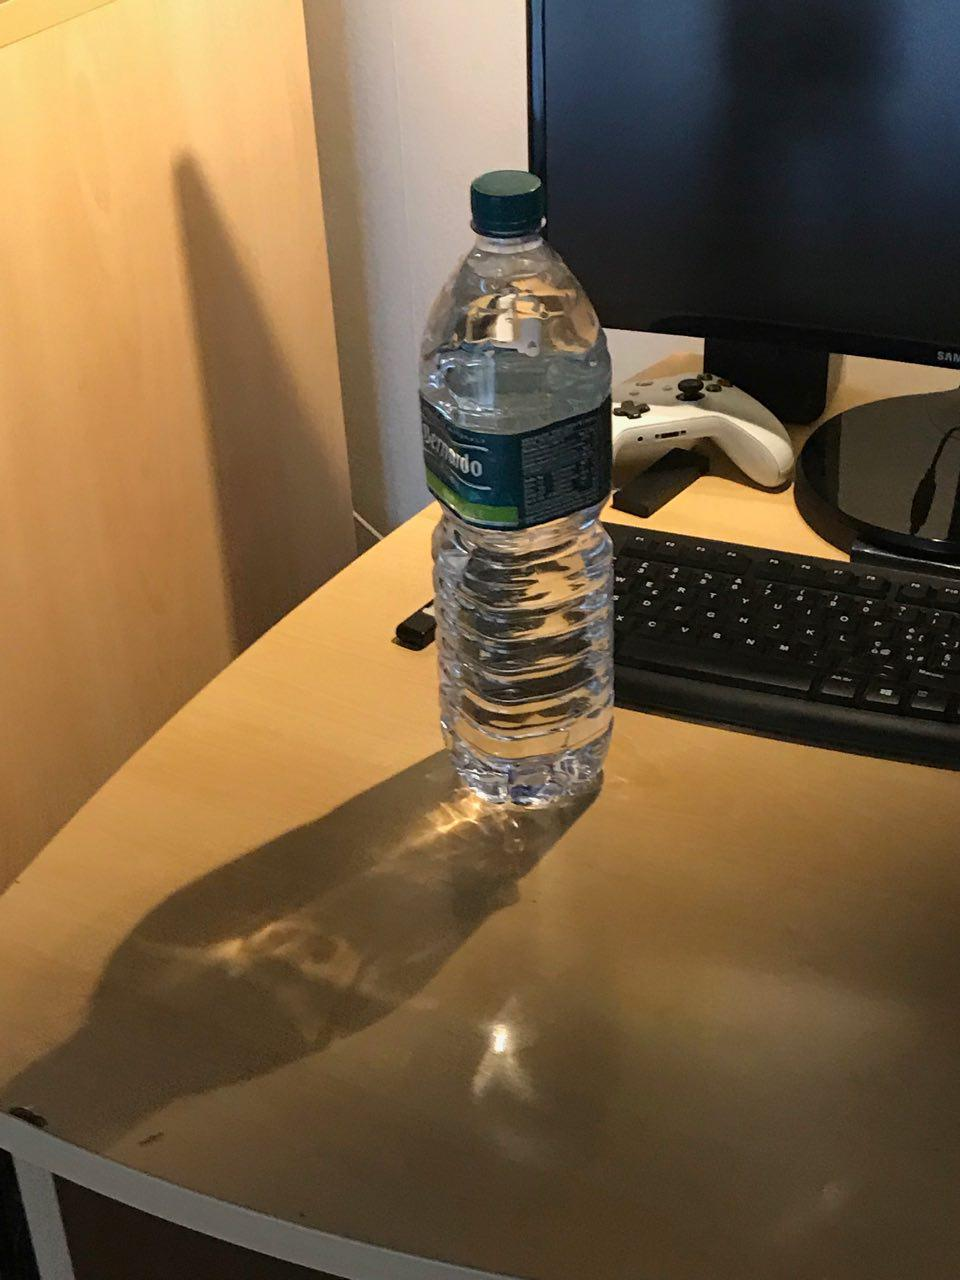san_bernardo: (417, 169, 615, 804)
